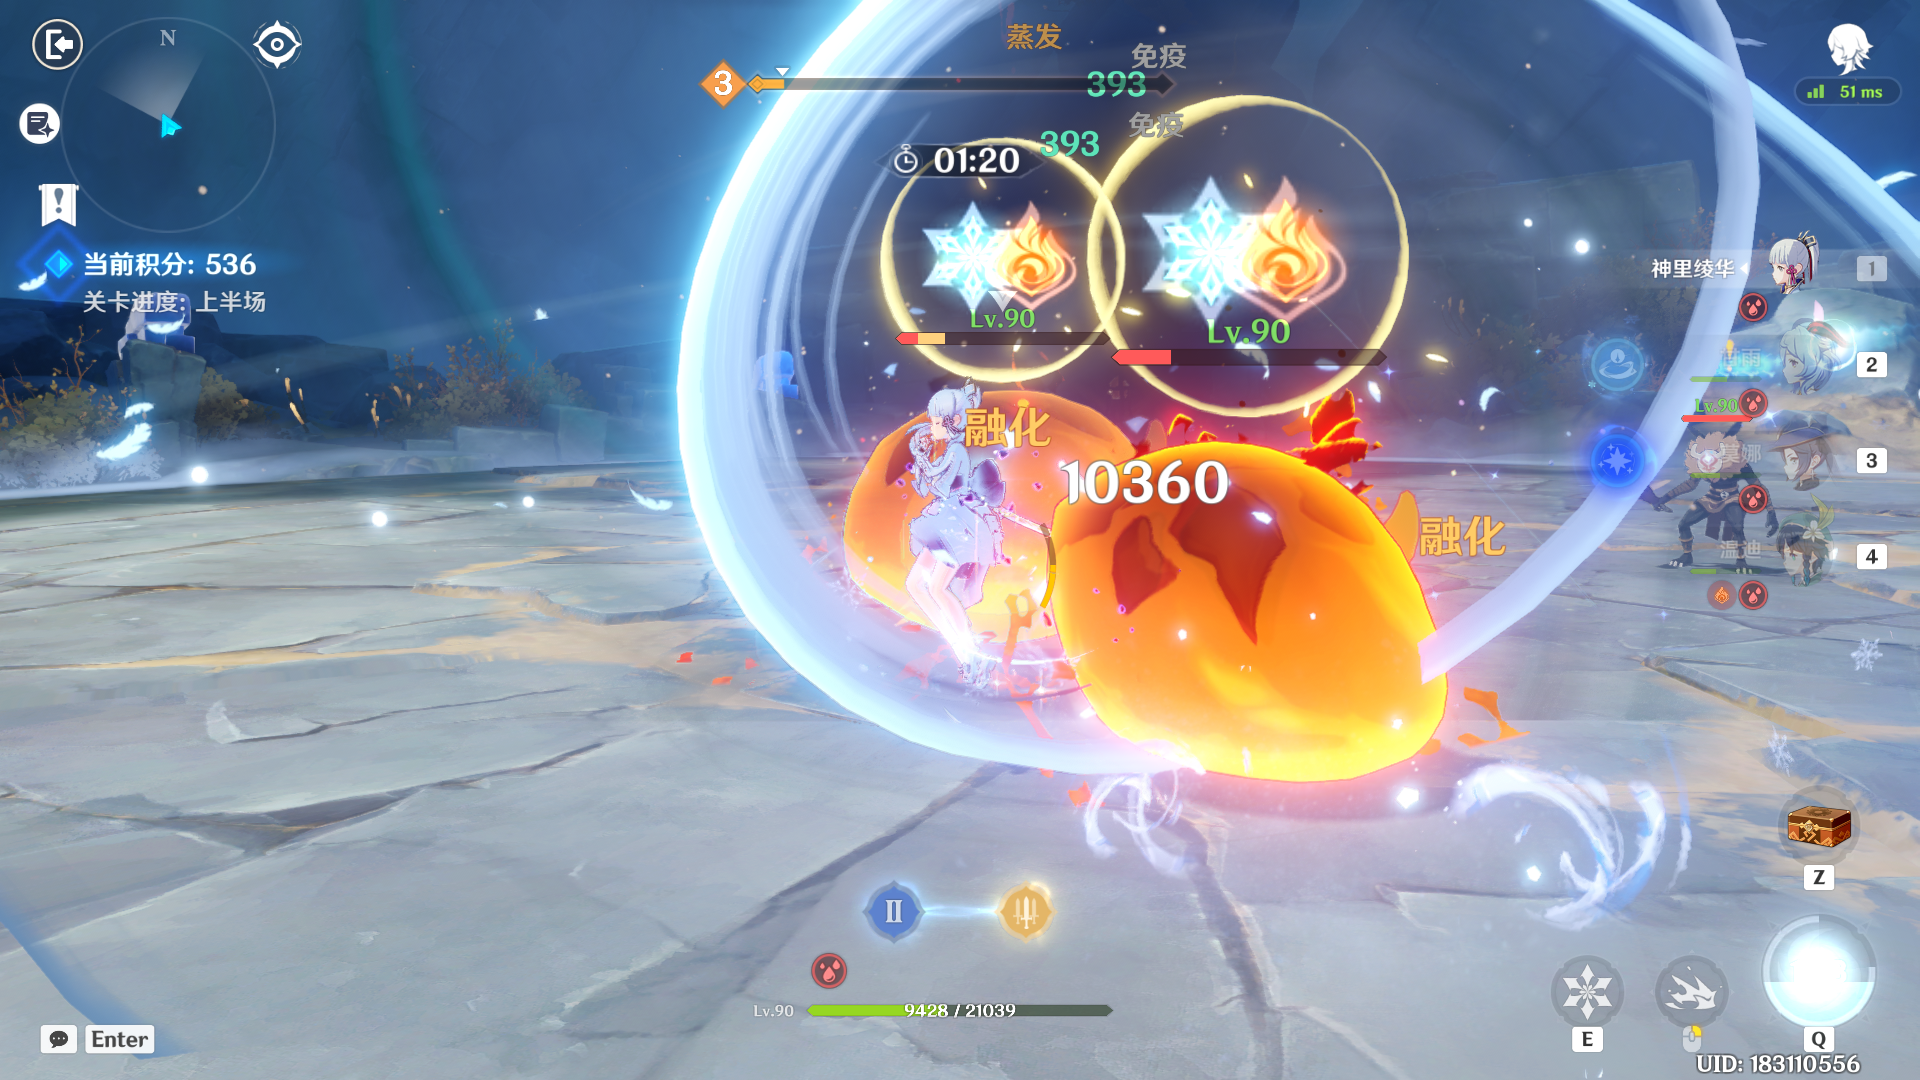character: (895, 396, 1036, 667)
slime: (1027, 392, 1480, 804), (829, 348, 1179, 667)
